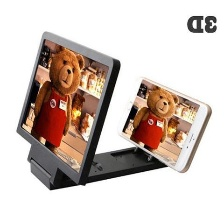phone: (113, 73, 214, 176)
